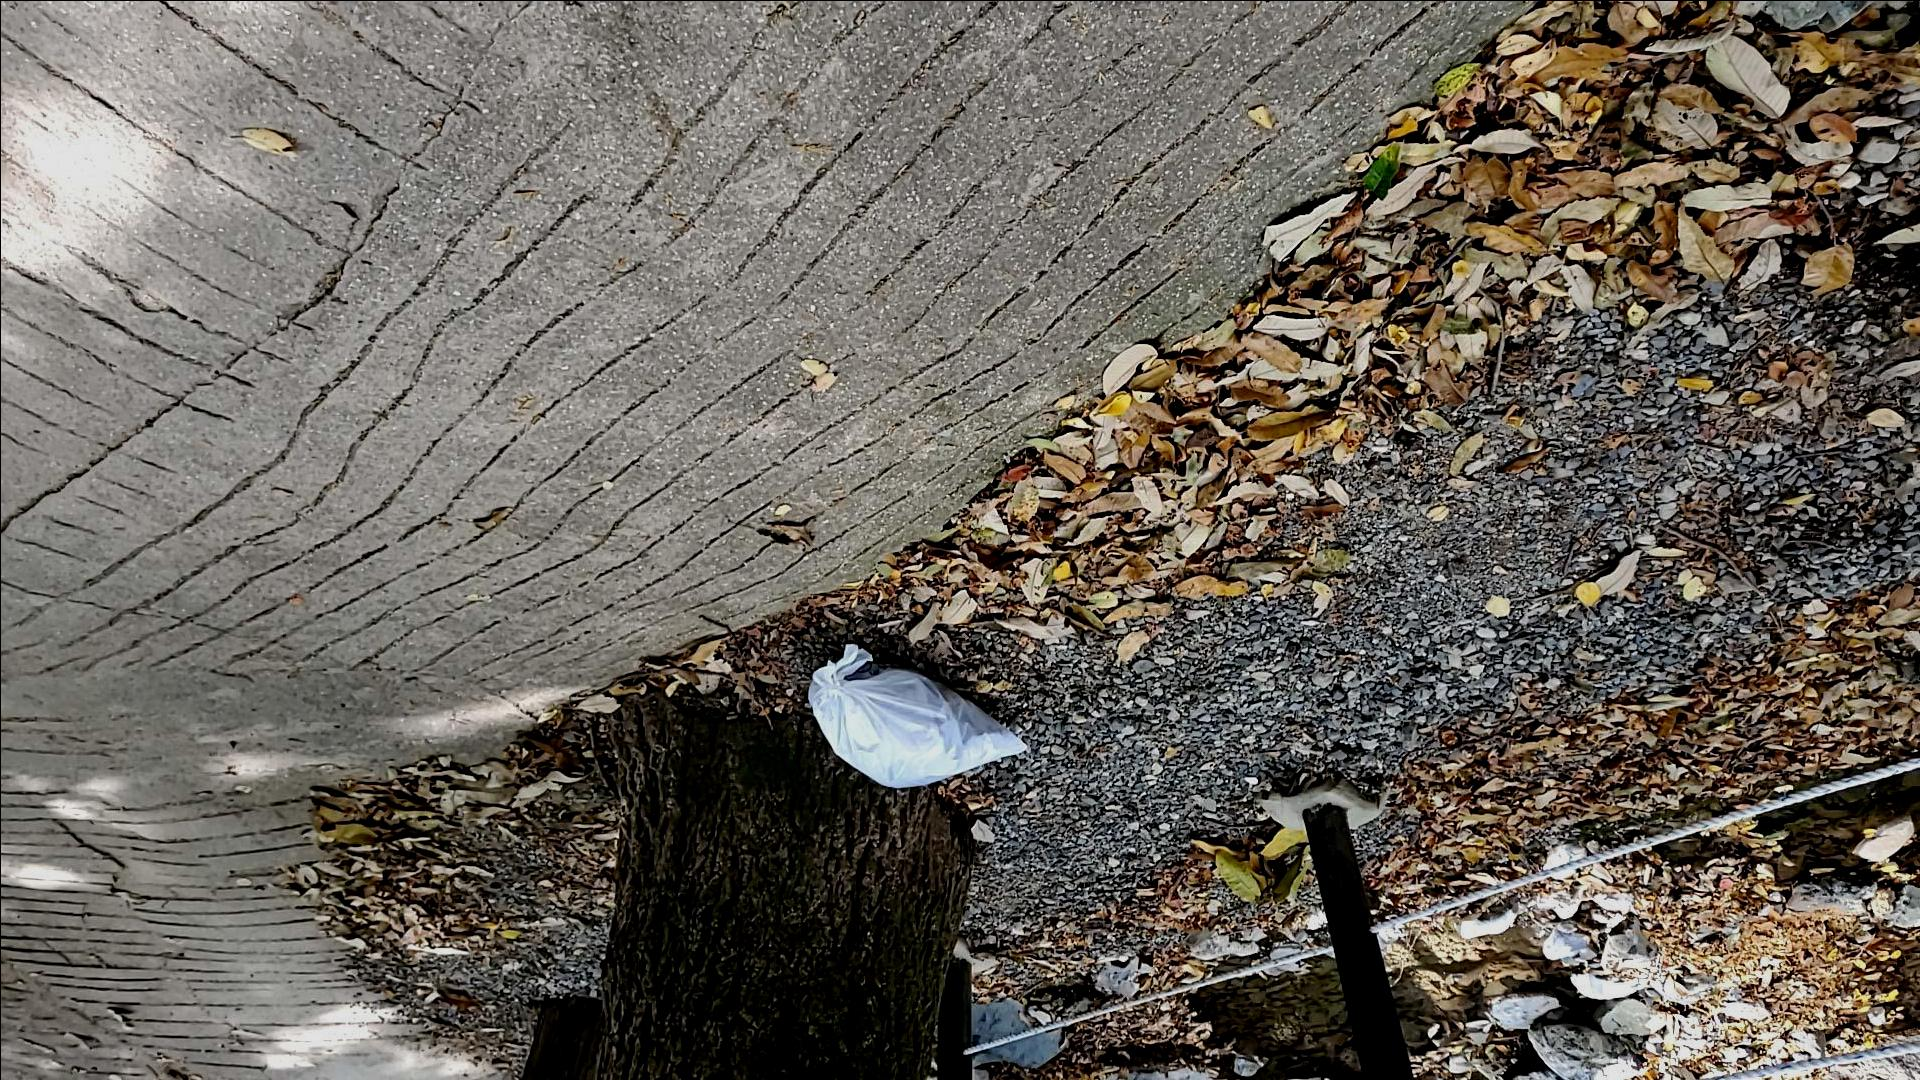white_bag: (794, 634, 1043, 783)
